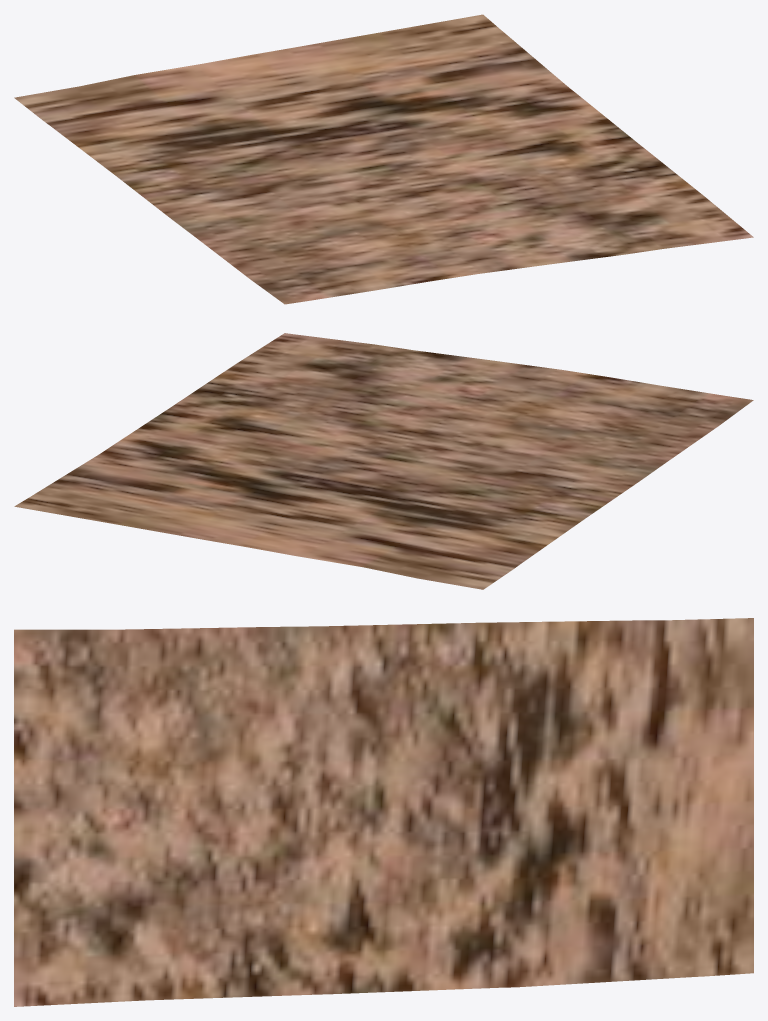
3 views of the same model, one above another, from view 1: azimuth 30°, elevation 25°; view 2: azimuth 150°, elevation 25°; view 3: azimuth 270°, elevation 25° (orthographic). The views are drawn at different scales.
Bounding box in the file's own units: 8 × 0.9094 × 8.
Materials: 1 (1 with a texture image).
